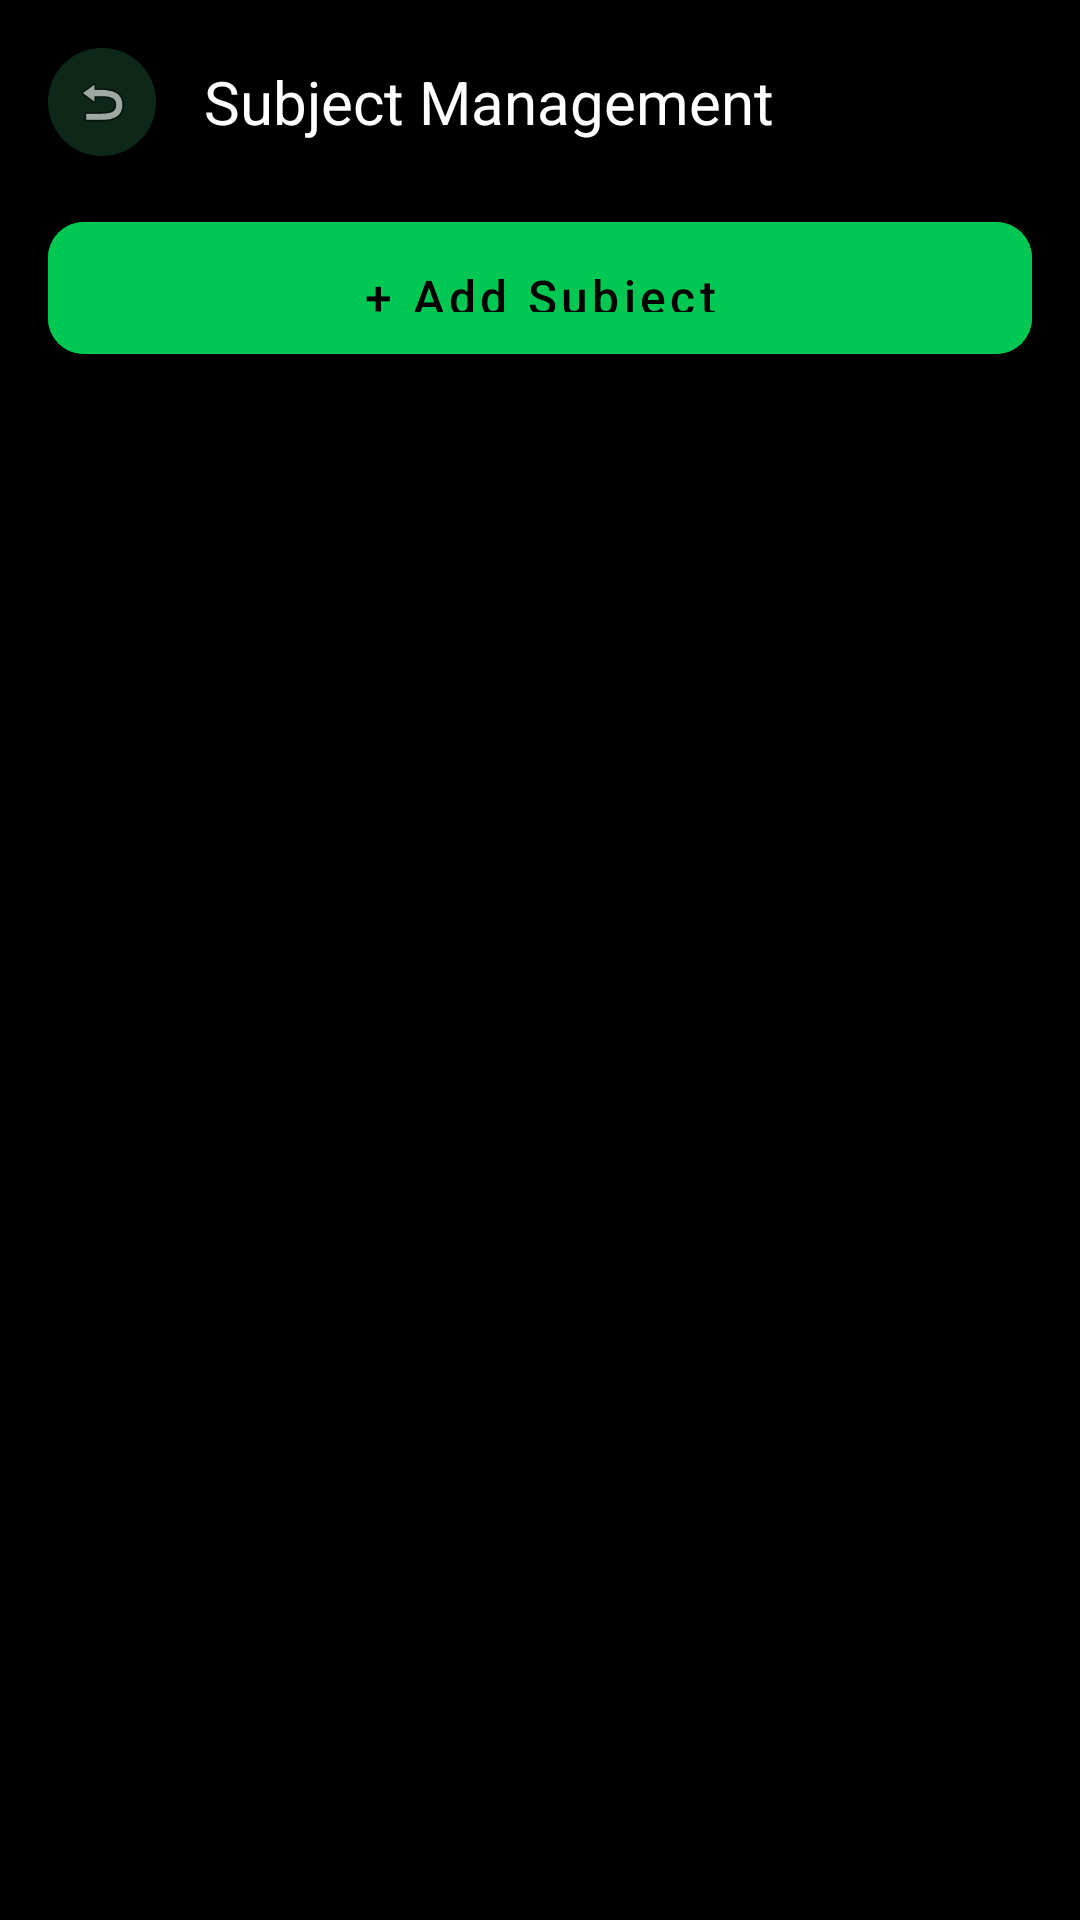

Named icons in this screenshot (1080px x 1920px) and their centers, [x,y]:
revert: [102,102]
